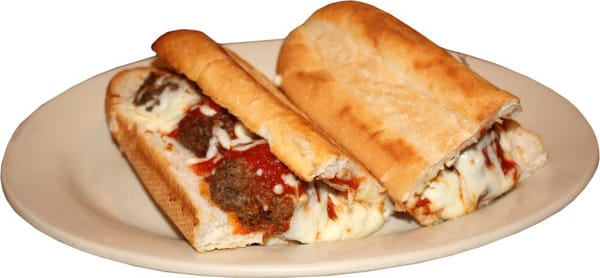soup: (104, 28, 395, 252), (274, 0, 546, 227)
